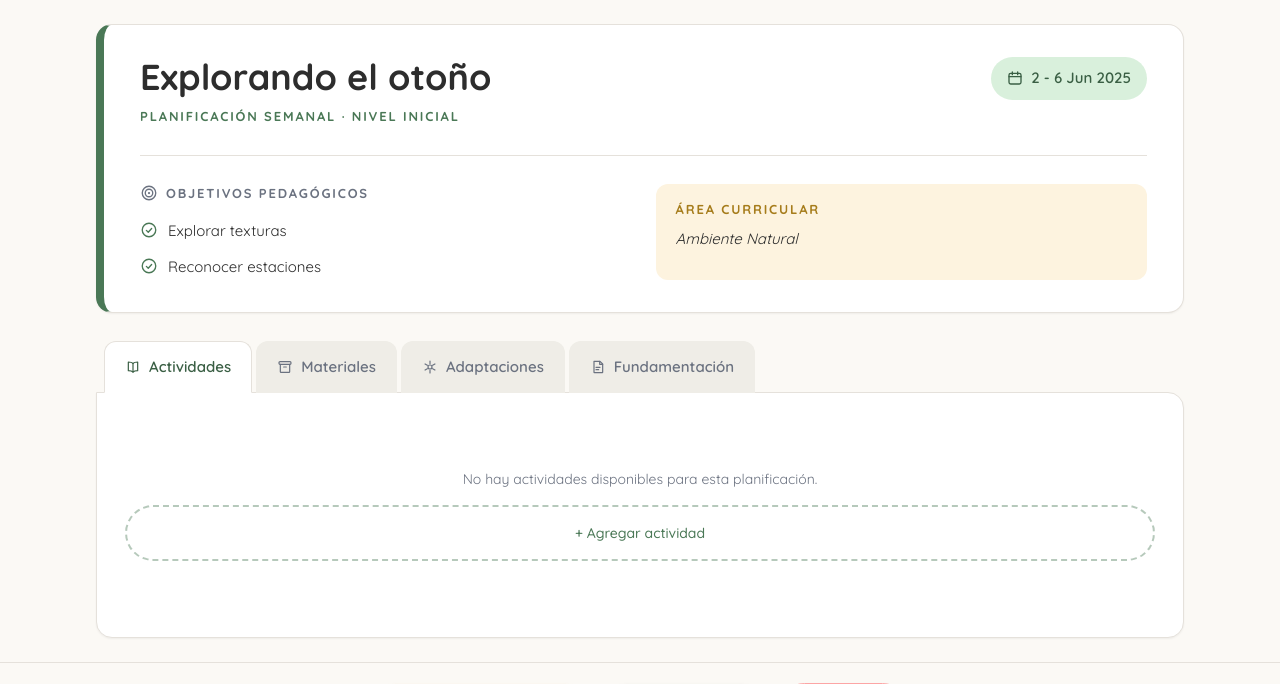
PreviewPage › muestra empty state cuando una pestaña no tiene contenido
The width and height of the screenshot is (1280, 684).
Check: the text "No hay actividades disponibles para esta planificación." is shown, box [463,469,817,489]
Click the tab "Materiales" at [327, 367], box [256,341,397,393]
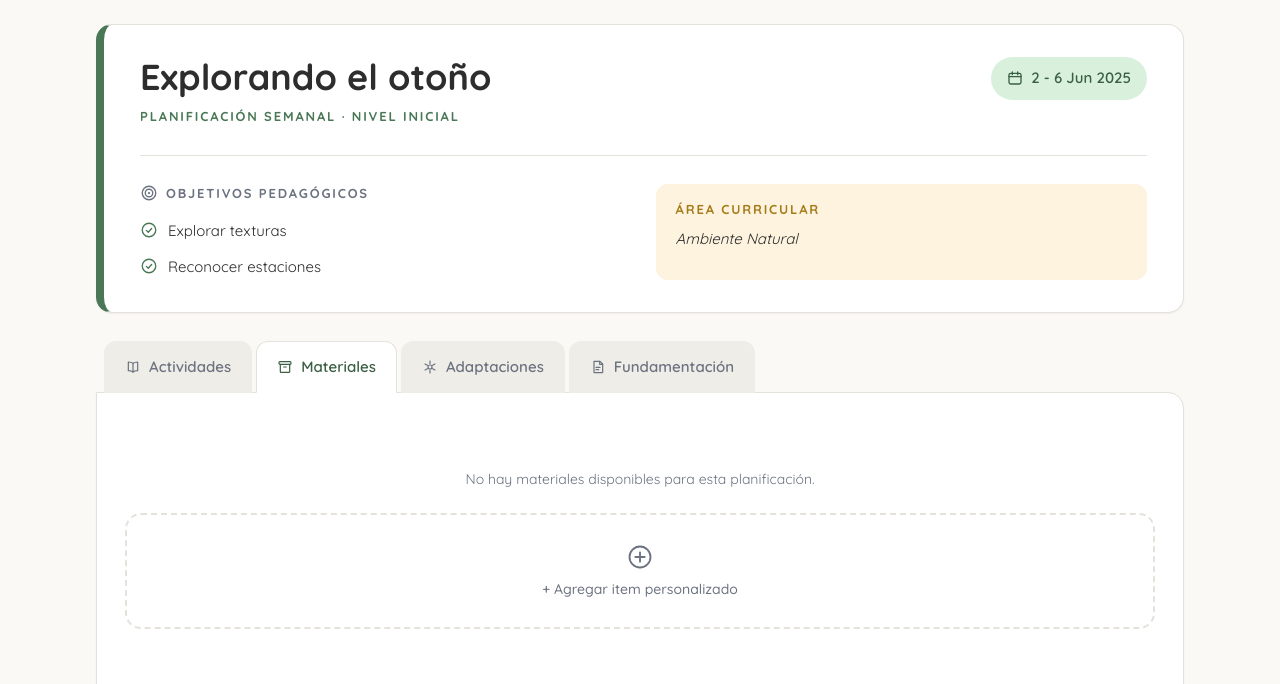
Check: the text "No hay materiales disponibles para esta planificación." is shown, box [466,469,815,489]
Click the tab "Adaptaciones" at [483, 367], box [401,341,565,393]
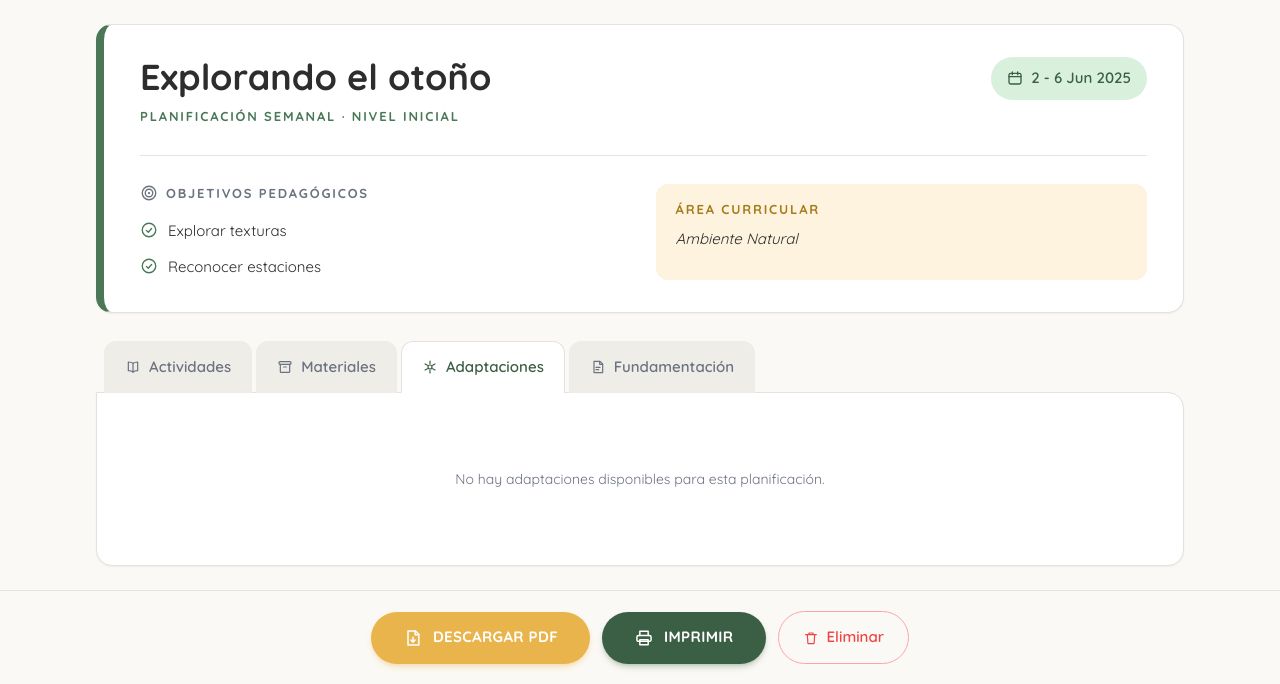
Check: the text "No hay adaptaciones disponibles para esta planificación." is shown, box [455,469,825,489]
Click the tab "Fundamentación" at [662, 367], box [569,341,755,393]
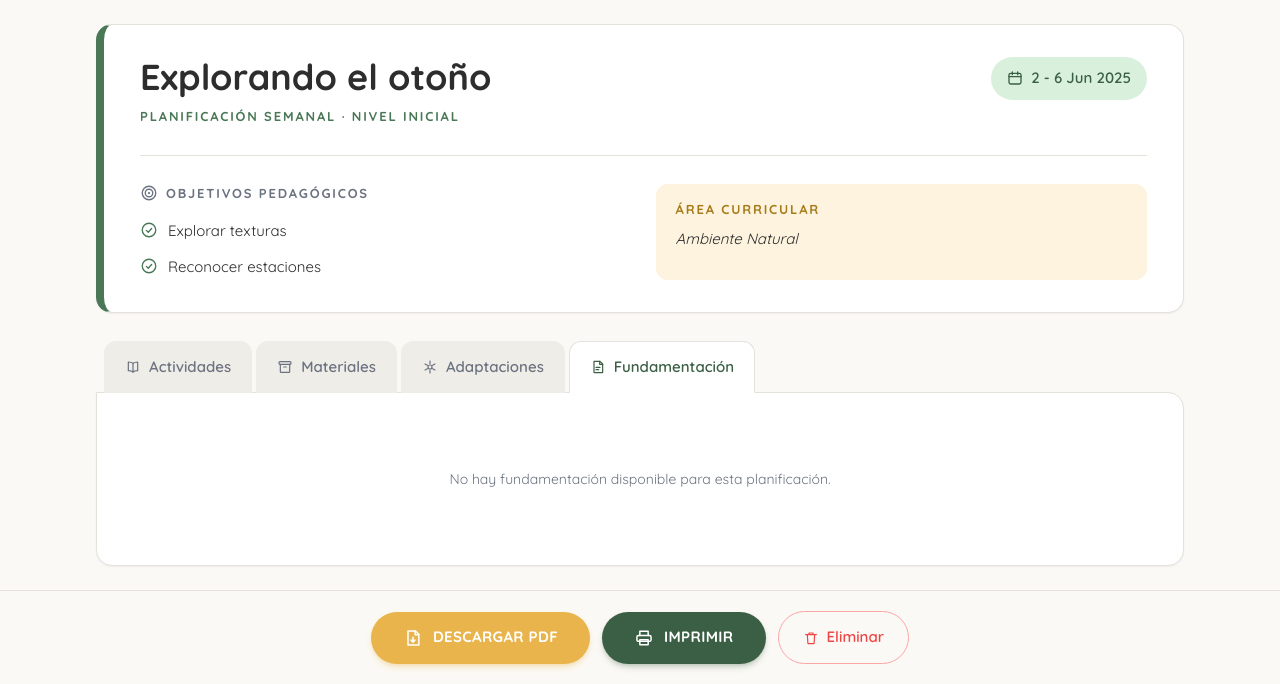
Check: the text "No hay fundamentación disponible para esta planificación." is shown, box [449,469,830,489]
